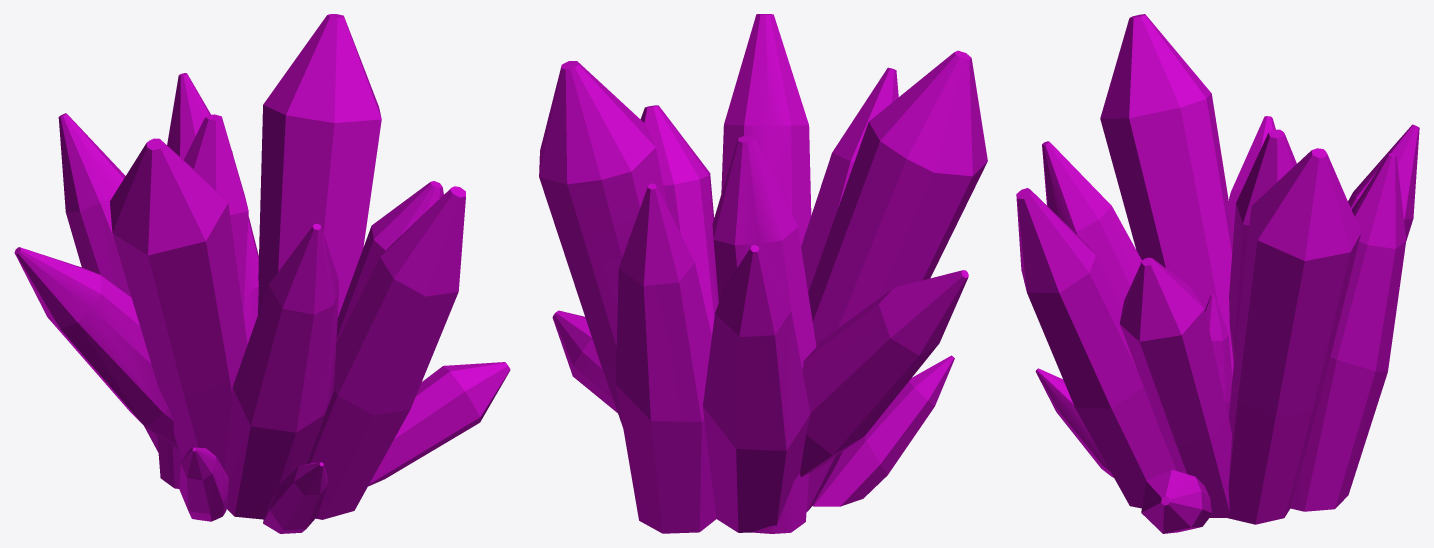
File: purple_crystal.glb
3 renders of one model, left to right at view 1: azimuth 30°, elevation 25°; view 2: azimuth 150°, elevation 25°; view 3: azimuth 270°, elevation 25°, orthographic. The views are drawn at different scales.
Visible parts, largest first — view 1: Prop_Crystal_Purple_01; view 2: Prop_Crystal_Purple_01; view 3: Prop_Crystal_Purple_01.
Boxes of the visible parts, x1,y1,x2,y2 form: Prop_Crystal_Purple_01: (14,14,510,533); Prop_Crystal_Purple_01: (539,14,987,533); Prop_Crystal_Purple_01: (1016,14,1419,533).
Bounding box in the file's own units: 7.14 × 6.4 × 5.84.
